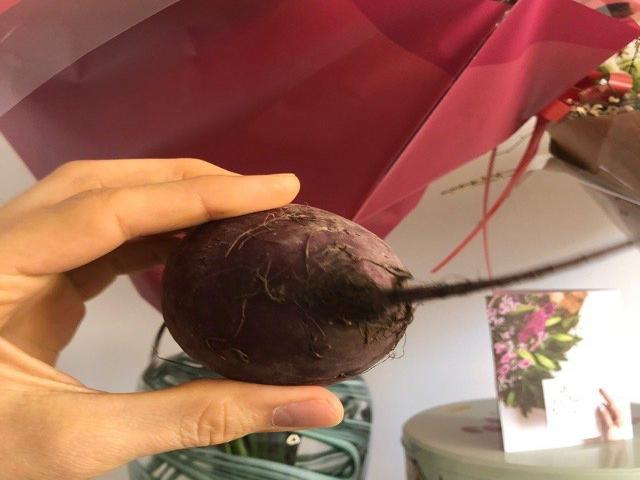beet: (154, 204, 640, 386)
